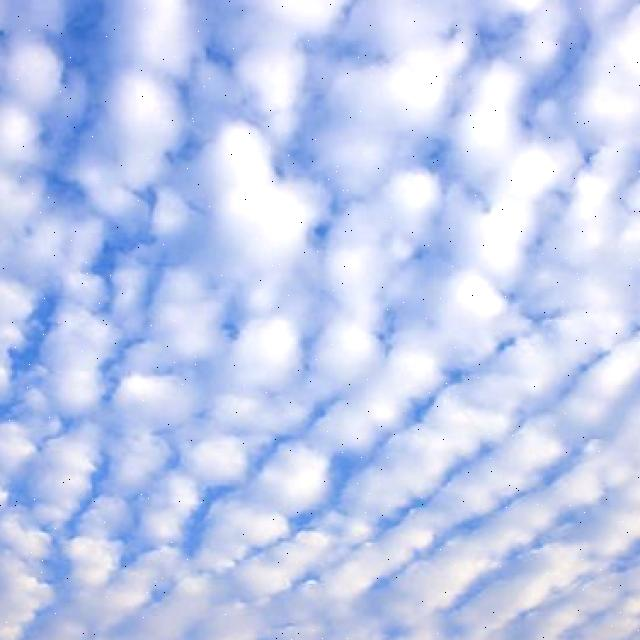Ac: (1, 1, 640, 534)
